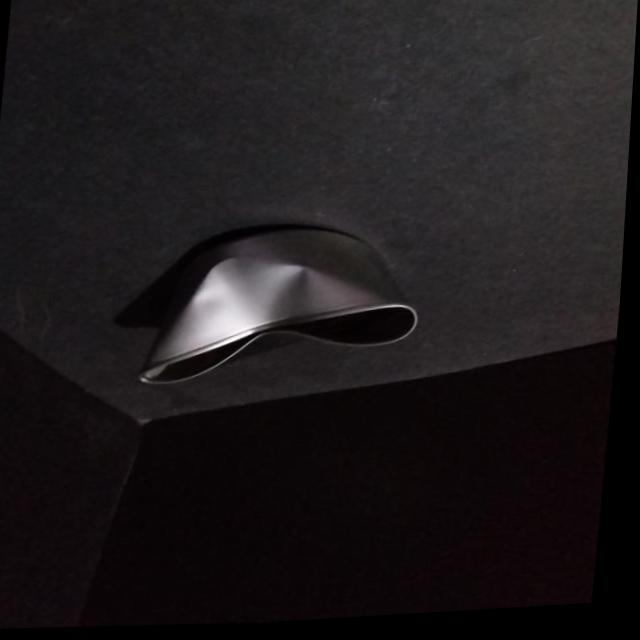metal: (116, 226, 417, 382)
